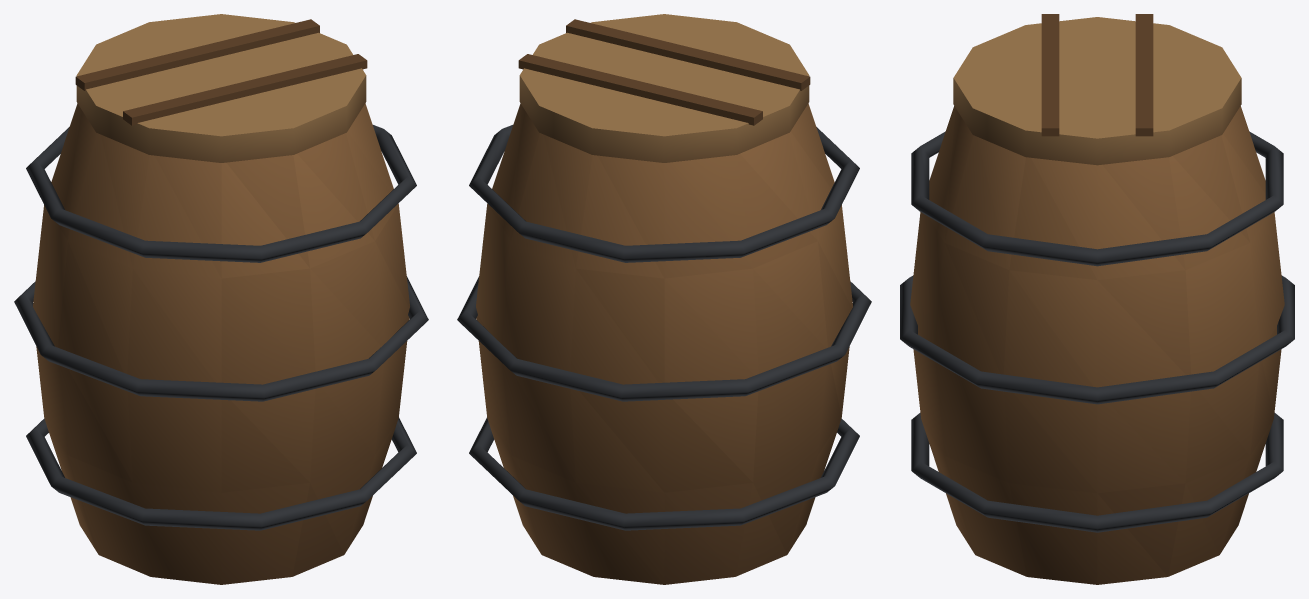
File: barrel-01.glb
3 views of the same model, side by side, from view 1: azimuth 30°, elevation 25°; view 2: azimuth 150°, elevation 25°; view 3: azimuth 270°, elevation 25° (orthographic).
Parts seen in each view (by area): view 1: barrel_01; view 2: barrel_01; view 3: barrel_01.
Boxes of the visible parts, x1,y1,x2,y2 form: barrel_01: (14, 14, 428, 584); barrel_01: (457, 14, 871, 584); barrel_01: (900, 14, 1294, 584).
Bounding box in the file's own units: 0.706 × 0.8525 × 0.6715.
